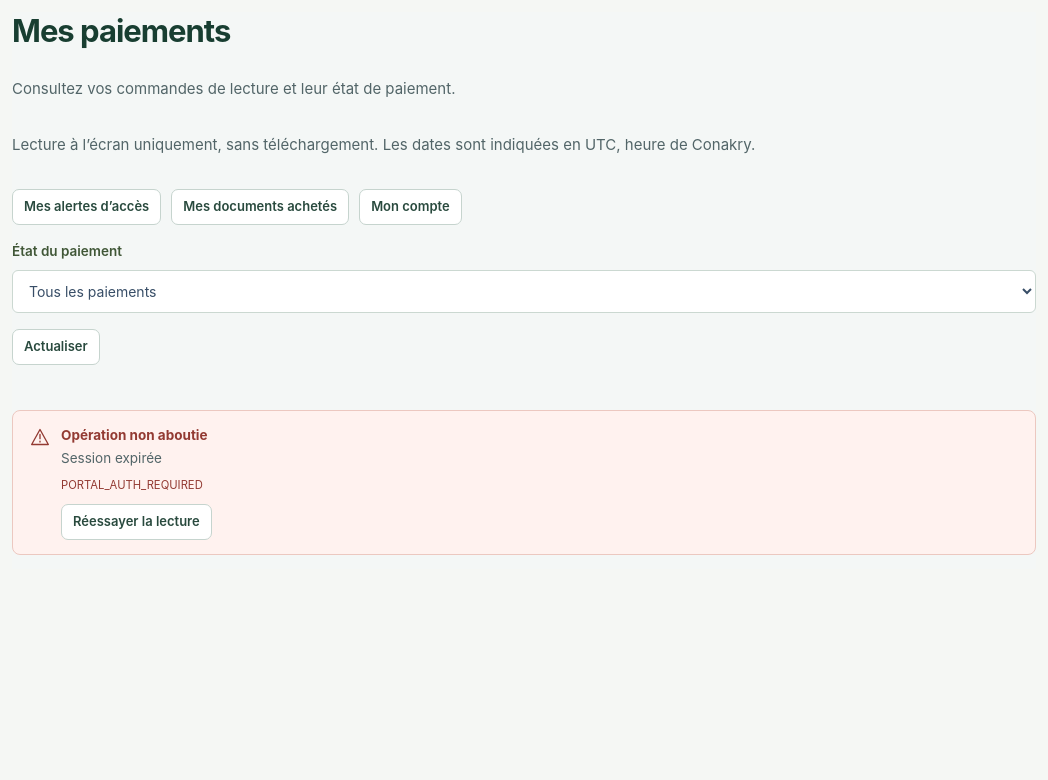
Test: une liste vide et une erreur serveur restent compréhensibles et une session expirée est signalée
Expected: the text "Session expirée" is shown, [61,450,162,466]
Click the button "Réessayer la lecture" at (136, 522), box [61,504,212,540]
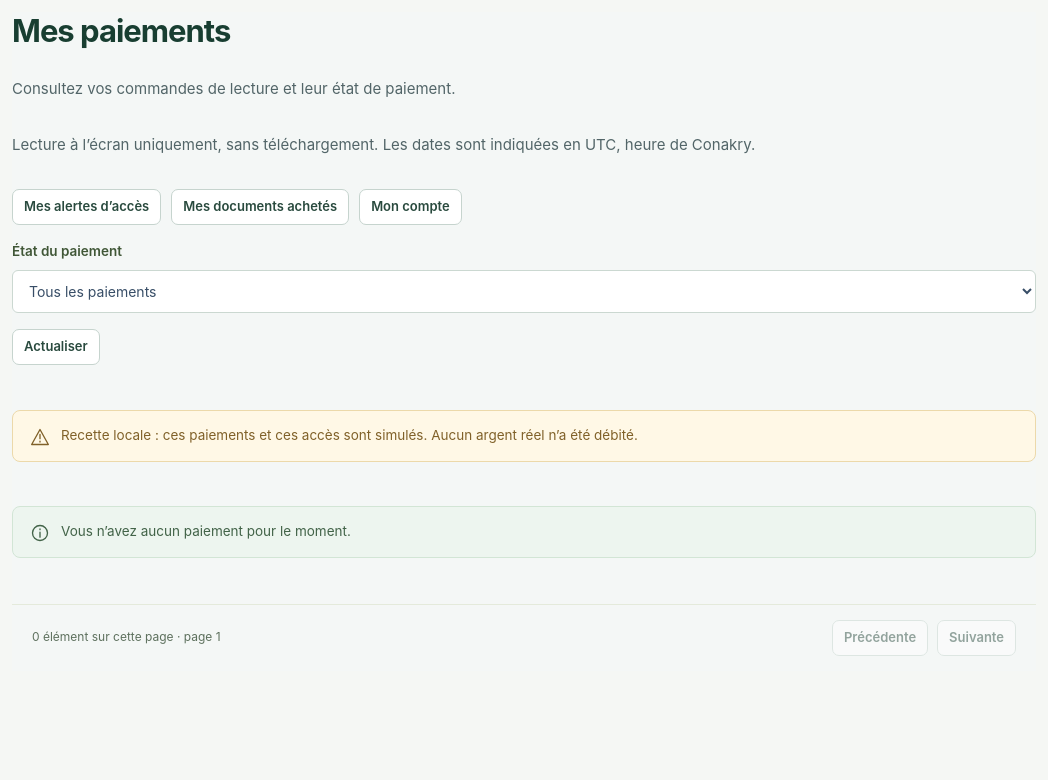
Expected: the text "Vous n’avez aucun paiement pour le moment." is shown, [61,521,351,542]
